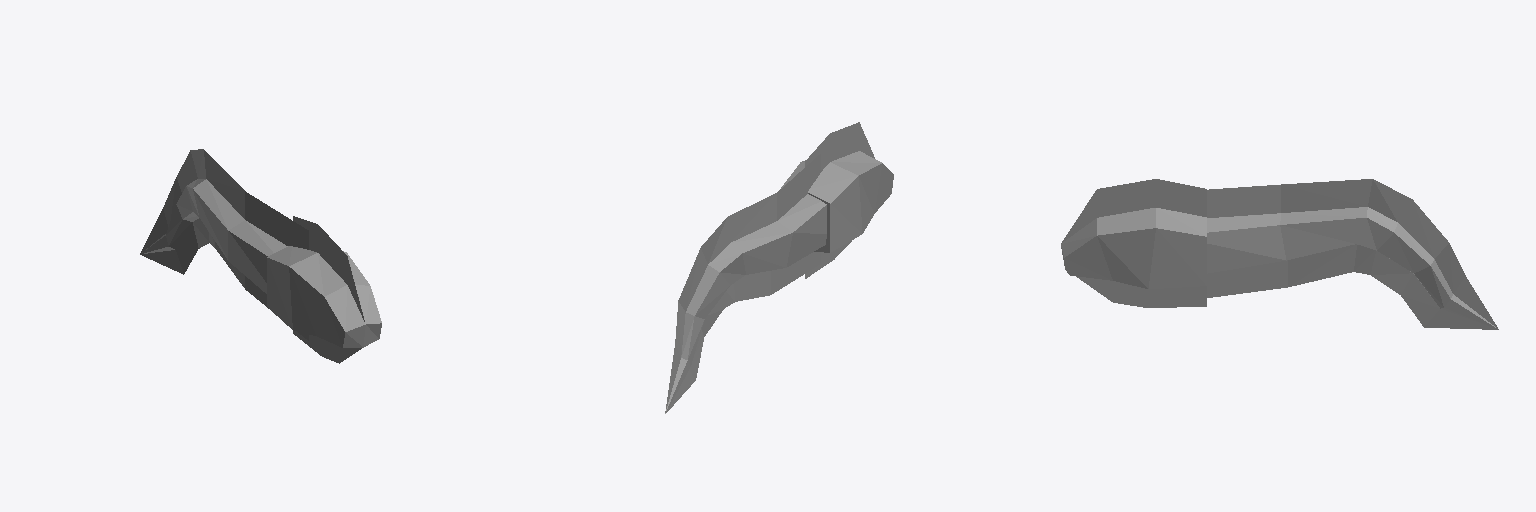
File: abaia.obj
3 views of the same model, side by side, from view 1: azimuth 30°, elevation 25°; view 2: azimuth 150°, elevation 25°; view 3: azimuth 270°, elevation 25° (orthographic).
Visible parts, largest first — view 1: Head, Body, Tail02, Tail01; view 2: Body, Head, Tail01, Tail02; view 3: Body, Head, Tail01, Tail02.
Part boxes in pixels (x1,y1,x2,y2): Head: (267, 216, 381, 363); Body: (193, 150, 308, 340); Tail02: (140, 177, 198, 274); Tail01: (176, 149, 214, 248); Body: (727, 154, 826, 301); Head: (781, 122, 893, 278); Tail01: (678, 218, 745, 336); Tail02: (665, 301, 704, 413); Body: (1207, 179, 1372, 297); Head: (1061, 179, 1206, 307); Tail01: (1354, 179, 1448, 294); Tail02: (1401, 243, 1498, 329).
Bounding box in the file's own units: 0.42 × 1.08 × 2.77.